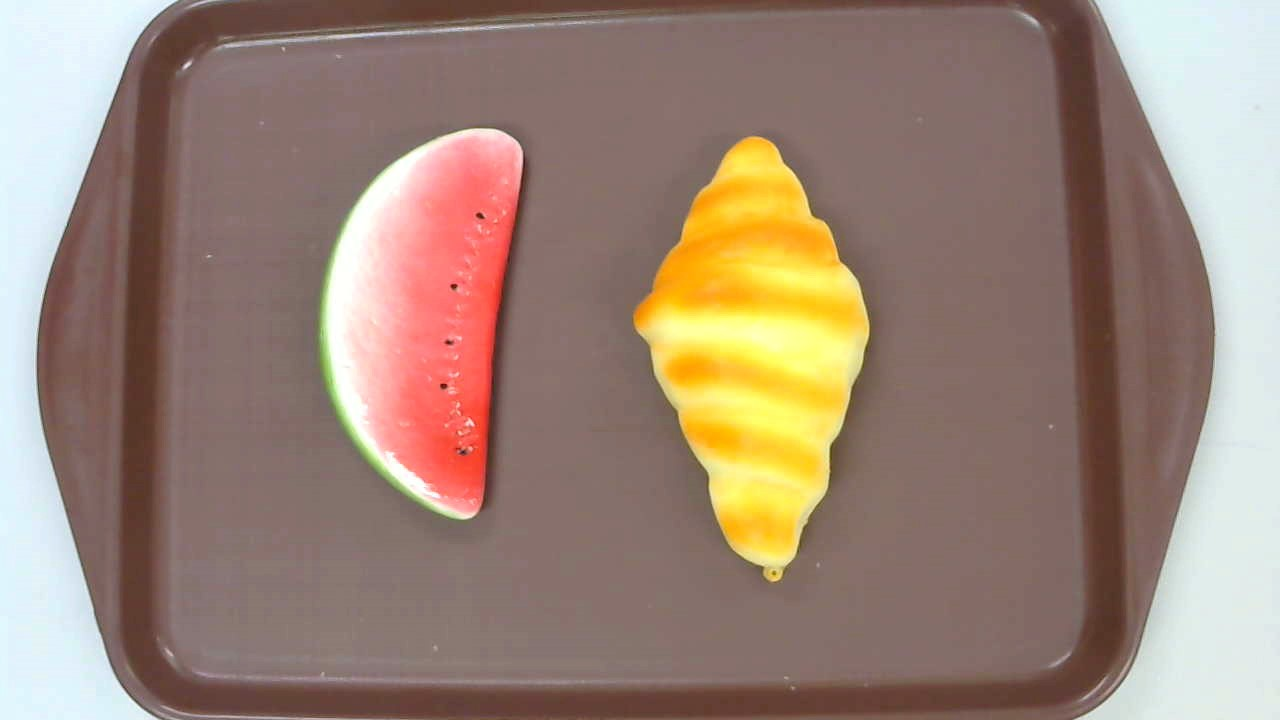croissant: (631, 136, 871, 579)
water melon: (316, 128, 524, 521)
